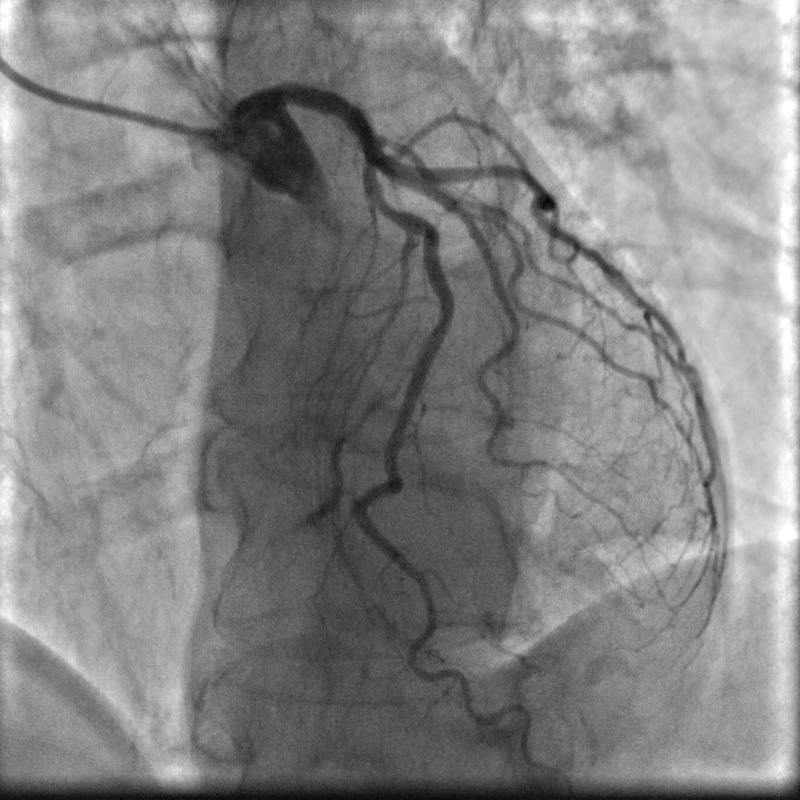Stenosis: (371, 185, 402, 223)
